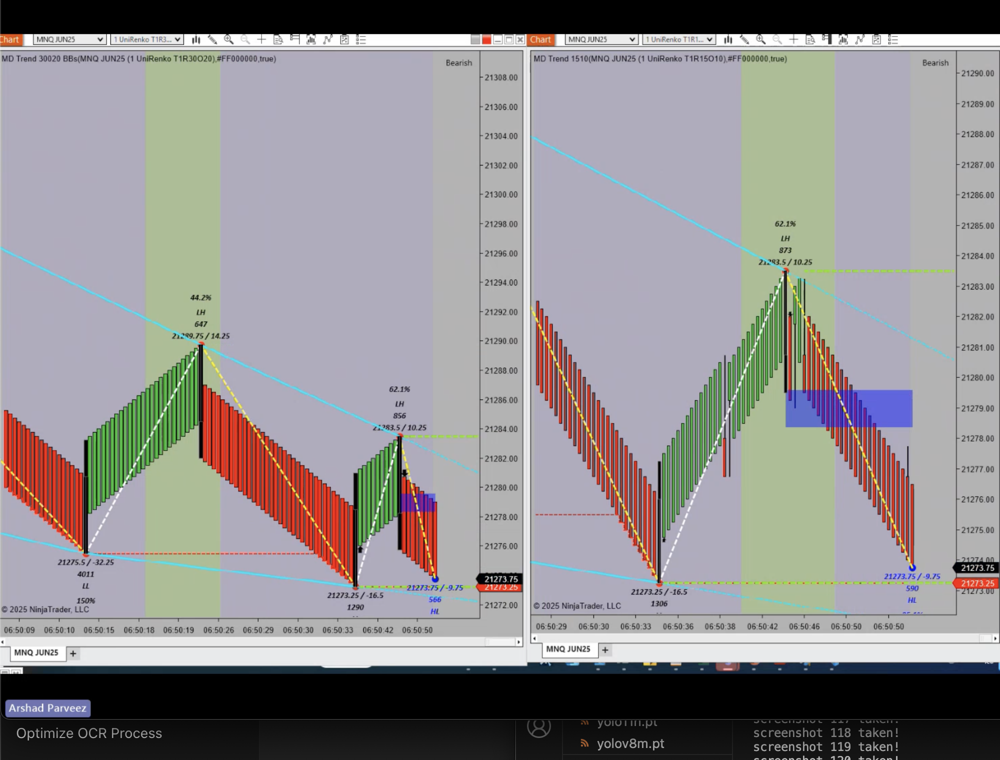HL: (901, 589, 923, 609), (423, 602, 446, 618)
LH: (389, 395, 410, 413), (187, 306, 213, 320), (776, 231, 797, 245)
LL: (75, 579, 96, 596)
